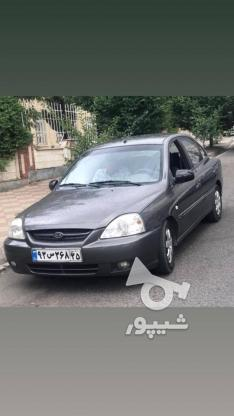car: (31, 245, 83, 265)
